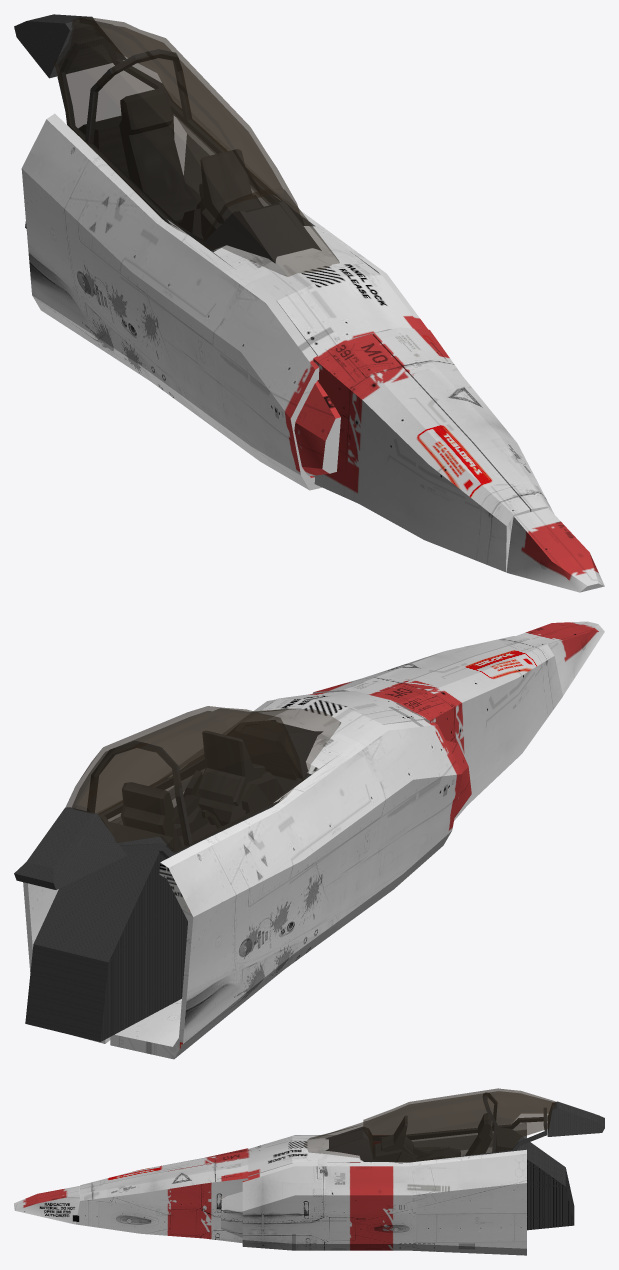
Rendered from head03.FBX.
3 renders of one model, top to bottom at view 1: azimuth 30°, elevation 25°; view 2: azimuth 150°, elevation 25°; view 3: azimuth 270°, elevation 25°, orthographic. The views are drawn at different scales.
Visible parts, largest first — view 1: head03, cockpit_glass02, cockpit02; view 2: head03, cockpit_glass02, cockpit02; view 3: head03, cockpit_glass02, cockpit02.
Part boxes in pixels (left/top/right/bottom): head03: left=21, top=90, right=604, bottom=592; cockpit_glass02: left=54, top=16, right=339, bottom=276; cockpit02: left=14, top=14, right=321, bottom=263; head03: left=23, top=621, right=604, bottom=1059; cockpit_glass02: left=65, top=706, right=340, bottom=852; cockpit02: left=14, top=720, right=322, bottom=889; head03: left=14, top=1123, right=574, bottom=1255; cockpit_glass02: left=304, top=1088, right=555, bottom=1162; cockpit02: left=325, top=1092, right=604, bottom=1163.
Bounding box in the file's own units: 172 × 270 × 978.
